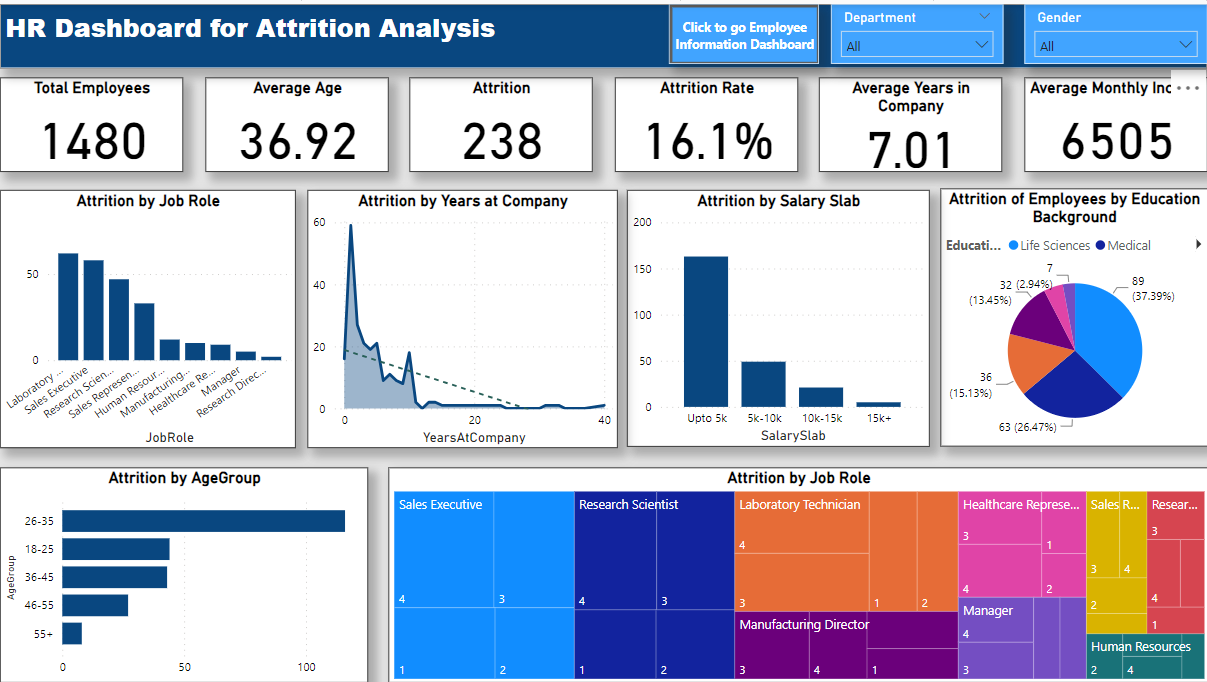

This screenshot's page, from the dashboard's own definition file:
{"tool":"powerbi","page":{"name":"Attrition Data","canvas":[1280,720],"ordinal":0},"visuals":[{"type":"card","title":"Total Employees","fields":{"Values":["Sum(HR_Analytics.EmployeeCount)"]},"box":[0,77.9,193.9,100.1],"z":0},{"type":"card","title":"Attrition","fields":{"Values":["Sum(HR_Analytics.Attrition rate)"]},"box":[434.3,77.7,194,100],"z":1000},{"type":"card","title":"Attrition Rate","fields":{"Values":["HR_Analytics.Attrition Percentage"]},"box":[651.4,77.7,194,100],"z":2000},{"type":"card","title":"Average Age","fields":{"Values":["Avg(HR_Analytics.Age)"]},"box":[217.1,77.7,194,100],"z":3000},{"type":"card","title":"Average Years in Company","fields":{"Values":["Avg(HR_Analytics.YearsAtCompany)"]},"box":[868.5,77.7,194,100],"z":4000},{"type":"card","title":"Average Monthly Income","fields":{"Values":["Avg(HR_Analytics.MonthlyIncome)"]},"box":[1085.7,77.7,194.2,100],"z":5000},{"type":"pieChart","title":"Attrition of Employees by Education Background","fields":{"Y":["Sum(HR_Analytics.Attrition rate)"],"Category":["HR_Analytics.EducationField"]},"box":[996.7,195.8,283.1,273.4],"z":6000},{"type":"clusteredBarChart","title":"Attrition by AgeGroup","fields":{"Category":["HR_Analytics.AgeGroup"],"Y":["Sum(HR_Analytics.Attrition)"]},"box":[0,491.9,389.9,228.1],"z":7000},{"type":"columnChart","title":"Attrition by Salary Slab","fields":{"Category":["HR_Analytics.SalarySlab"],"Y":["Sum(HR_Analytics.Attrition)"]},"box":[665,197.4,320.4,271.8],"z":8000},{"type":"columnChart","title":"Attrition by Job Role","fields":{"Category":["HR_Analytics.JobRole"],"Y":["Sum(HR_Analytics.Attrition rate)"]},"box":[0,197.1,313.1,273.4],"z":9000},{"type":"areaChart","title":"Attrition by Years at Company","fields":{"Y":["Sum(HR_Analytics.Attrition)"],"Category":["HR_Analytics.YearsAtCompany"]},"box":[325.2,197.4,328.4,273.4],"z":10000},{"type":"treemap","title":"Attrition by Job Role","fields":{"Group":["HR_Analytics.JobRole"],"Values":["CountNonNull(HR_Analytics.JobSatisfaction)"],"Details":["HR_Analytics.JobSatisfaction"]},"box":[411,491.9,868.9,228.1],"z":11000},{"type":"textbox","box":[0,0,1279.5,68],"z":11500},{"type":"slicer","fields":{"Values":["HR_Analytics.Gender"]},"box":[1085.6,0,193.9,63.6],"z":12000},{"type":"slicer","fields":{"Values":["HR_Analytics.Department"]},"box":[880.5,0,182.8,63.6],"z":13000},{"type":"actionButton","box":[708.9,0,158.9,63.6],"z":13001}]}

Visuals, with their boxes in screenshot pixels (x1, y1, x2, y2), scaled from the page's 1280x720 canvas onto the 1207x682 screenshot:
"Total Employees" card: BBox(0, 74, 183, 169)
"Attrition" card: BBox(410, 74, 592, 168)
"Attrition Rate" card: BBox(614, 74, 797, 168)
"Average Age" card: BBox(205, 74, 388, 168)
"Average Years in Company" card: BBox(819, 74, 1002, 168)
"Average Monthly Income" card: BBox(1024, 74, 1206, 168)
"Attrition of Employees by Education Background" pieChart: BBox(940, 185, 1206, 444)
"Attrition by AgeGroup" clusteredBarChart: BBox(0, 466, 368, 681)
"Attrition by Salary Slab" columnChart: BBox(627, 187, 929, 444)
"Attrition by Job Role" columnChart: BBox(0, 187, 295, 446)
"Attrition by Years at Company" areaChart: BBox(307, 187, 616, 446)
"Attrition by Job Role" treemap: BBox(388, 466, 1206, 681)
textbox: BBox(0, 0, 1206, 64)
slicer - HR_Analytics.Gender: BBox(1024, 0, 1206, 60)
slicer - HR_Analytics.Department: BBox(830, 0, 1003, 60)
actionButton: BBox(668, 0, 818, 60)
